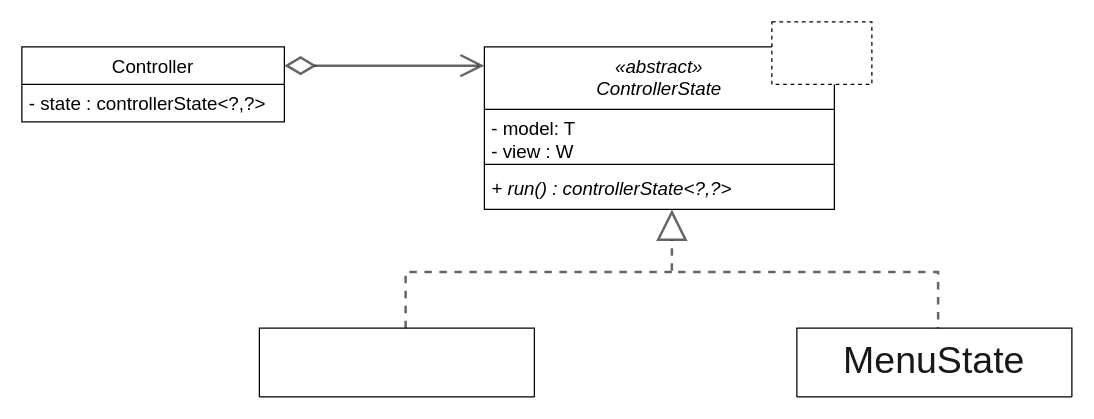
The diagram is 1094 pixels wide and 419 high, and some of its shapes have lost their labels. Each missing label, with the box of its shape:
GameState: (258, 327, 534, 397)
T, W: (771, 21, 872, 84)
